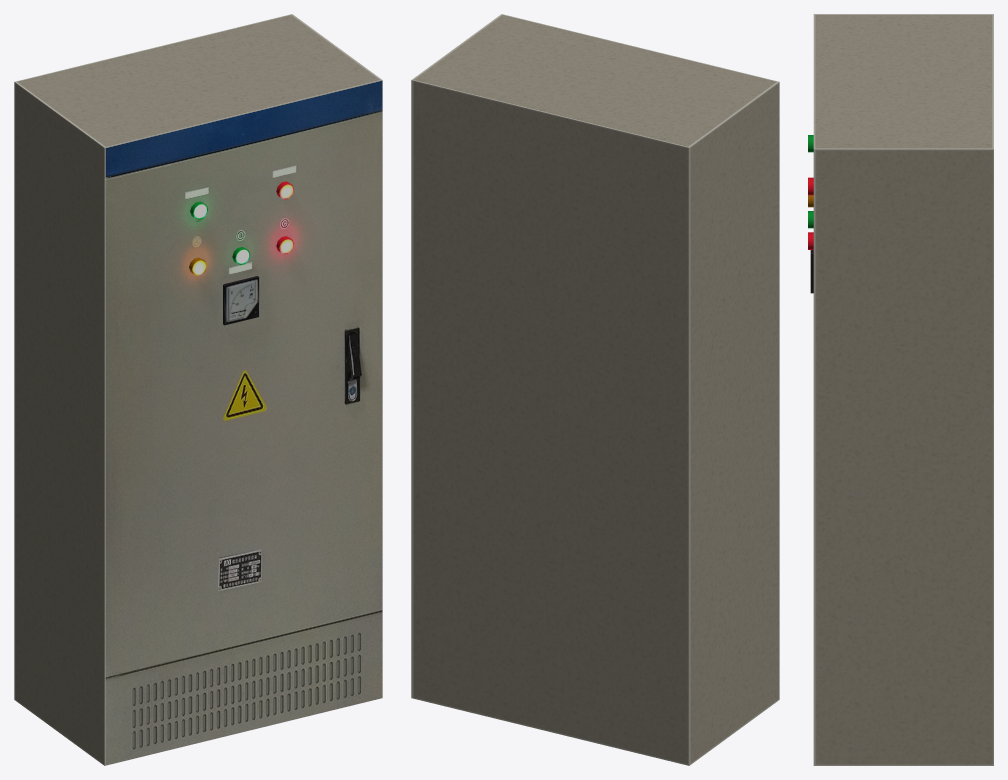
The model's file is PeiDianXiang_Large.fbx.
3 views of the same model, side by side, from view 1: azimuth 30°, elevation 25°; view 2: azimuth 150°, elevation 25°; view 3: azimuth 270°, elevation 25° (orthographic).
Visible parts, largest first — view 1: PeiDianXiang_Large; view 2: PeiDianXiang_Large; view 3: PeiDianXiang_Large.
Boxes of the visible parts, x1,y1,x2,y2 form: PeiDianXiang_Large: (14,14,382,765); PeiDianXiang_Large: (411,14,779,765); PeiDianXiang_Large: (808,14,993,765).
Bounding box in the file's own units: 80 × 170 × 46.44.
1 material, 1 textured.
